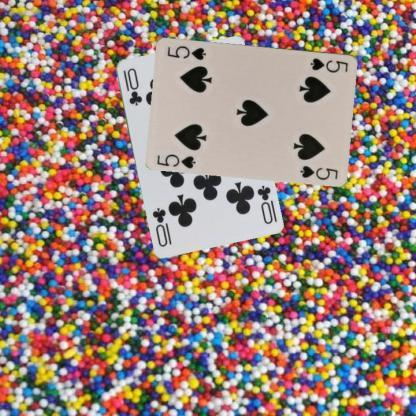10c: (120, 65, 143, 107), (254, 182, 274, 226)
5s: (308, 55, 350, 74), (154, 152, 197, 170)
